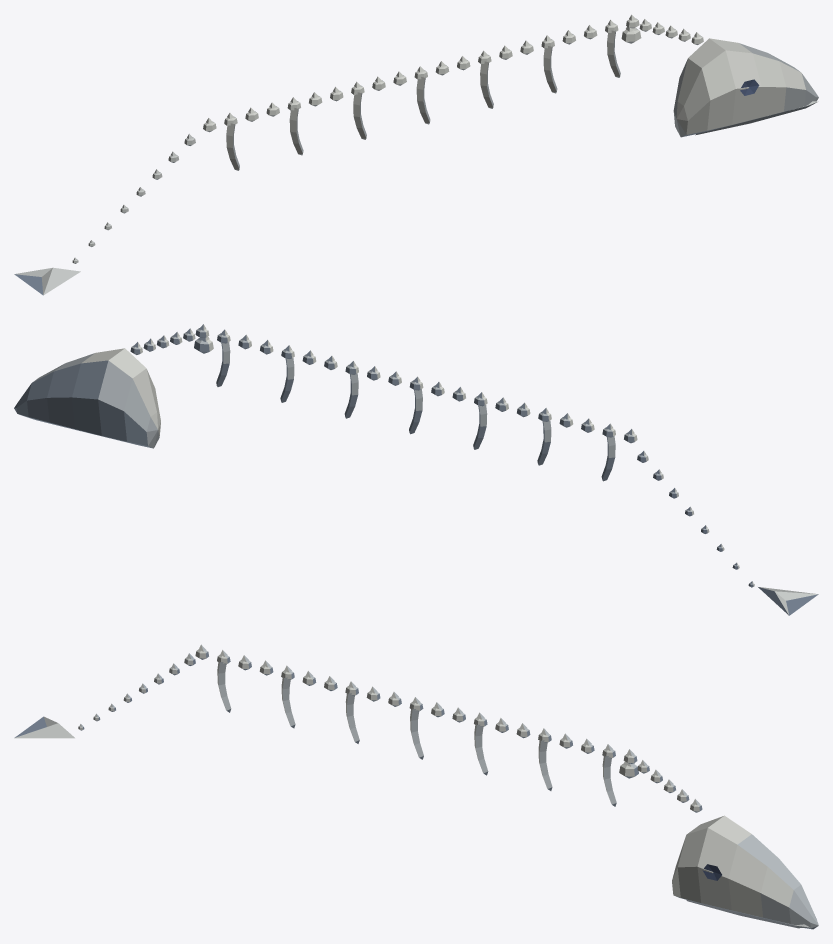
The model's file is whale-skeleton.glb.
3 views of the same model, one above another, from view 1: azimuth 30°, elevation 25°; view 2: azimuth 150°, elevation 25°; view 3: azimuth 330°, elevation 25° (orthographic).
Parts seen in each view (by area): view 1: bones; view 2: bones; view 3: bones.
Part boxes in pixels (x1,y1,x2,y2): bones: (14,14,818,295); bones: (14,324,818,615); bones: (14,644,818,929).
Size of the model in its own units: 55.7 by 9.18 by 4.67.
